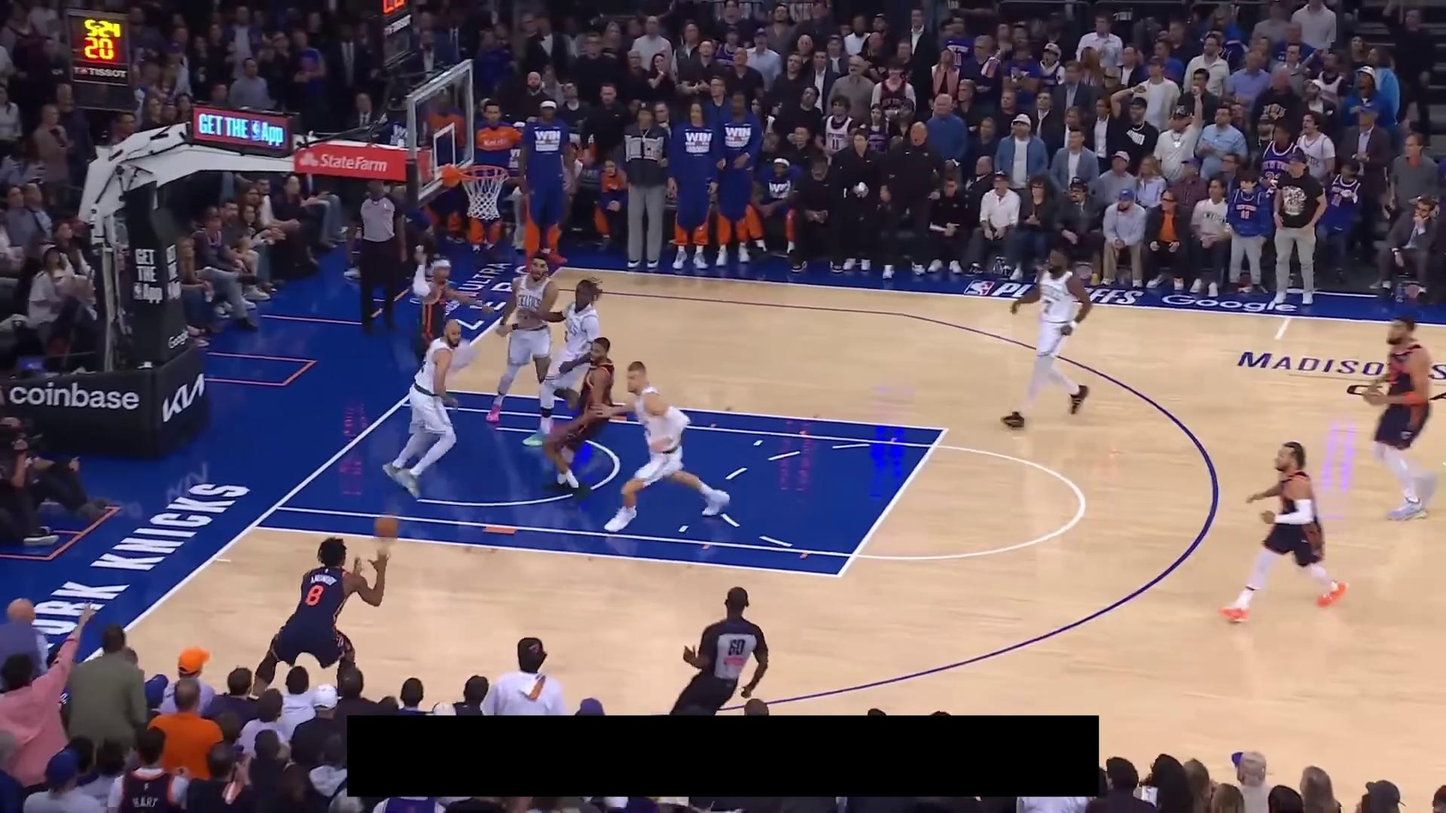ball: (372, 513, 400, 545)
number: (303, 583, 323, 607), (1042, 297, 1054, 315)
player: (250, 505, 403, 697), (592, 362, 733, 535), (1217, 438, 1346, 624), (998, 242, 1098, 429), (1358, 314, 1446, 522), (515, 273, 604, 449), (381, 318, 465, 496), (536, 333, 619, 504), (484, 250, 562, 430), (409, 241, 493, 375)
referee: (664, 583, 774, 717), (343, 176, 408, 334)
rim: (463, 164, 510, 181)
